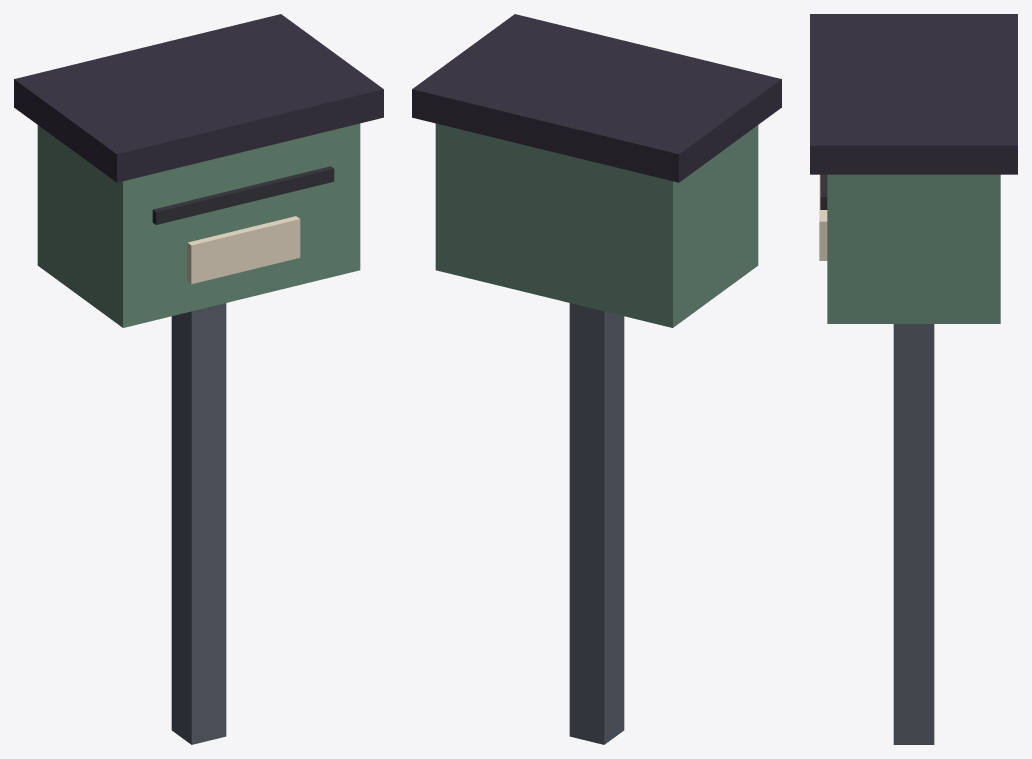
Rendered from SM_ResidentialMailbox.fbx.
3 views of the same model, side by side, from view 1: azimuth 30°, elevation 25°; view 2: azimuth 150°, elevation 25°; view 3: azimuth 270°, elevation 25° (orthographic).
Visible parts, largest first — view 1: SM_ResidentialMailbox; view 2: SM_ResidentialMailbox; view 3: SM_ResidentialMailbox.
Boxes of the visible parts, left/top/right/bottom form: SM_ResidentialMailbox: left=14, top=14, right=383, bottom=744; SM_ResidentialMailbox: left=412, top=14, right=781, bottom=744; SM_ResidentialMailbox: left=810, top=14, right=1017, bottom=744.
Bounding box in the file's own units: 0.54 × 0.36 × 1.25.
